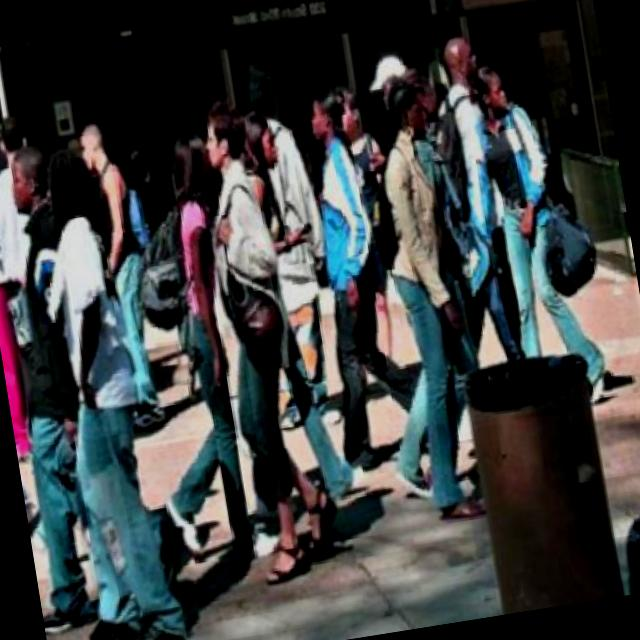Person: (10, 140, 191, 640), (184, 94, 348, 598), (357, 74, 502, 529), (0, 145, 117, 640), (283, 81, 421, 474), (465, 51, 608, 413)
